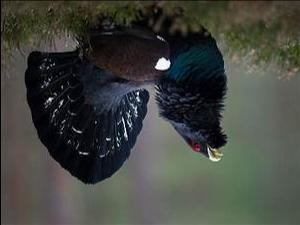hen: (24, 1, 229, 186)
